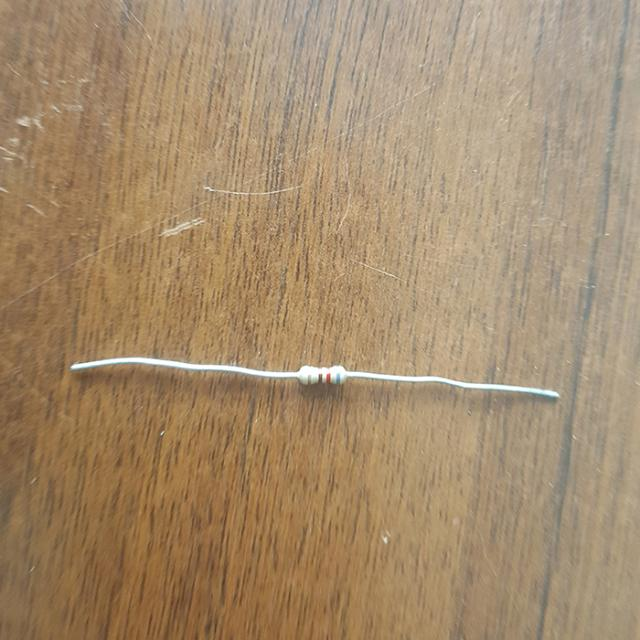brown: (319, 367, 323, 381)
gold: (308, 365, 312, 383)
grey: (336, 366, 340, 384)
red: (327, 367, 331, 381)
resistor: (290, 351, 354, 390)
